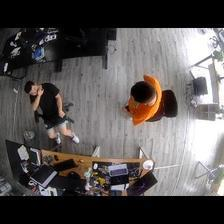normal: (24, 78, 81, 142), (119, 71, 165, 124)
